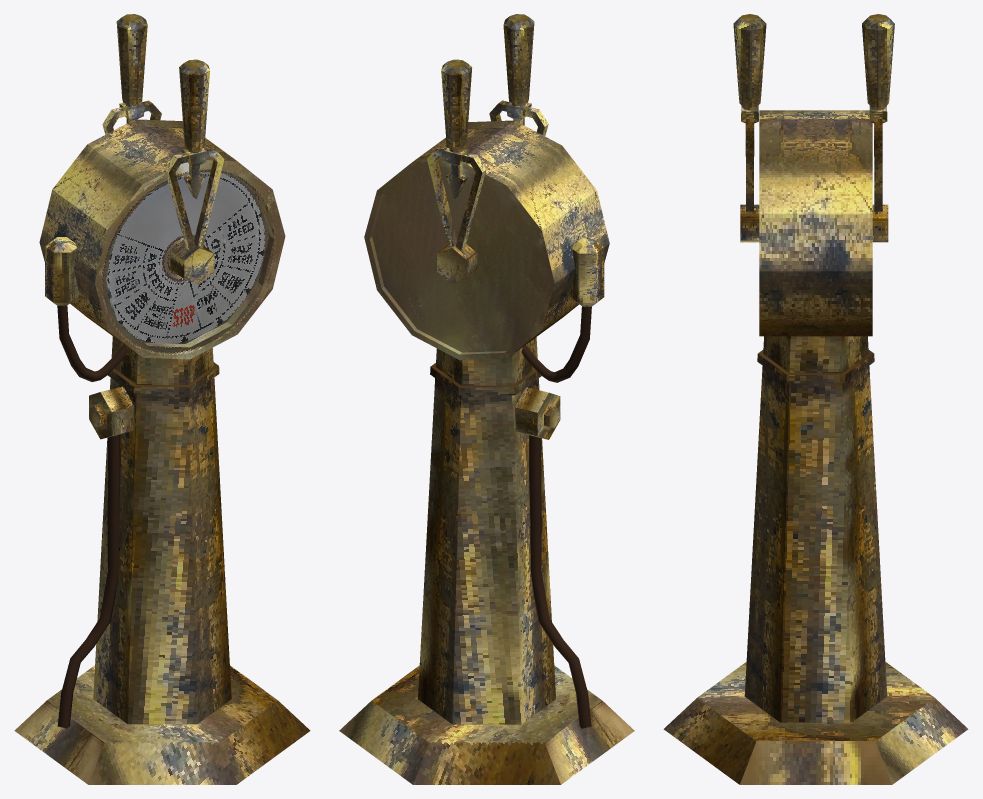
The model's file is speed_control.glb.
The picture shows the model from 3 angles, left to right: view 1: azimuth 30°, elevation 25°; view 2: azimuth 150°, elevation 25°; view 3: azimuth 270°, elevation 25°; orthographic projection. The views are drawn at different scales.
Visible parts, largest first — view 1: navigation_shaft, navigation_face, navigation_handle, Catenary.001, Cylinder.025, Cylinder.024, Cylinder.027, Catenary; view 2: navigation_shaft, navigation_face, navigation_handle, Catenary.001, Cylinder.025, Cylinder.024, Catenary, Cylinder.027; view 3: navigation_shaft, navigation_face, navigation_handle, Cylinder.027.
Part boxes in pixels (x1,y1,x2,y2): navigation_shaft: (14,336,310,784); navigation_face: (39,119,285,359); navigation_handle: (102,14,224,251); Catenary.001: (57,434,120,728); Cylinder.025: (45,237,79,305); Cylinder.024: (89,386,134,439); Cylinder.027: (170,239,214,284); Catenary: (57,305,127,381); navigation_shaft: (339,337,634,784); navigation_face: (364,120,609,360); navigation_handle: (427,14,548,250); Catenary.001: (529,435,591,728); Cylinder.025: (570,237,604,306); Cylinder.024: (515,387,560,439); Catenary: (521,306,591,382); Cylinder.027: (437,244,477,283); navigation_shaft: (663,336,968,784); navigation_face: (759,110,872,336); navigation_handle: (733,14,894,211); Cylinder.027: (740,204,888,242).
Size of the model in its own units: 0.4244 by 1.25 by 0.4853.
4 materials, 3 textured.
